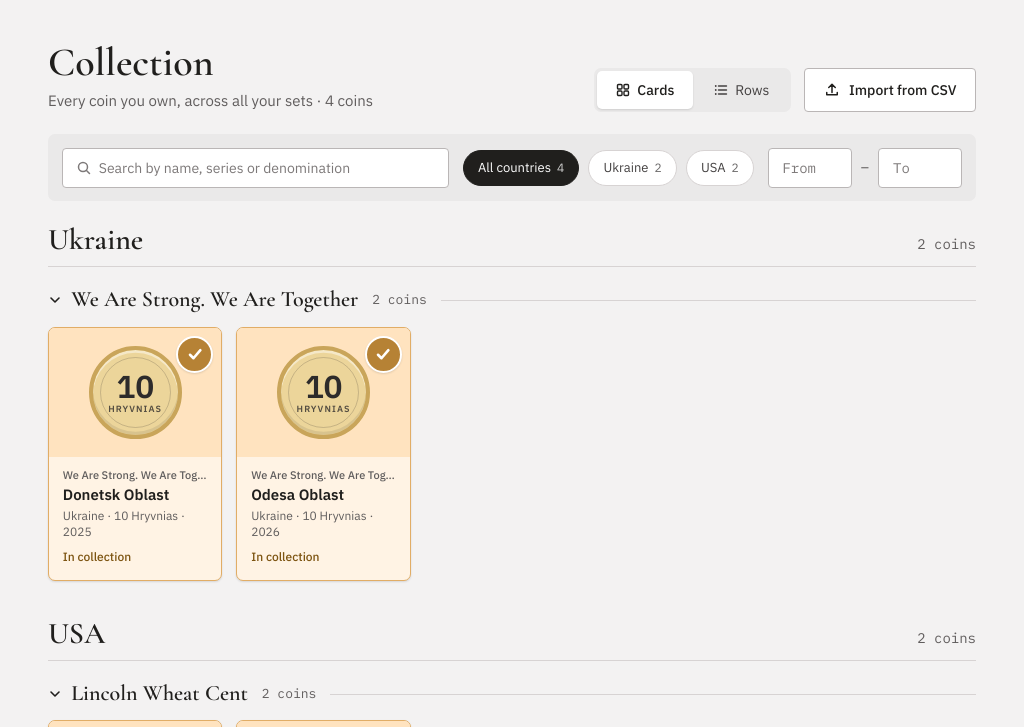
CollectionPage › criterion 4: year range › shows the no-results state when the range is empty
Type "2026" into the field with test id "collection-year-from" at point(810, 168), box [768,148,852,188]
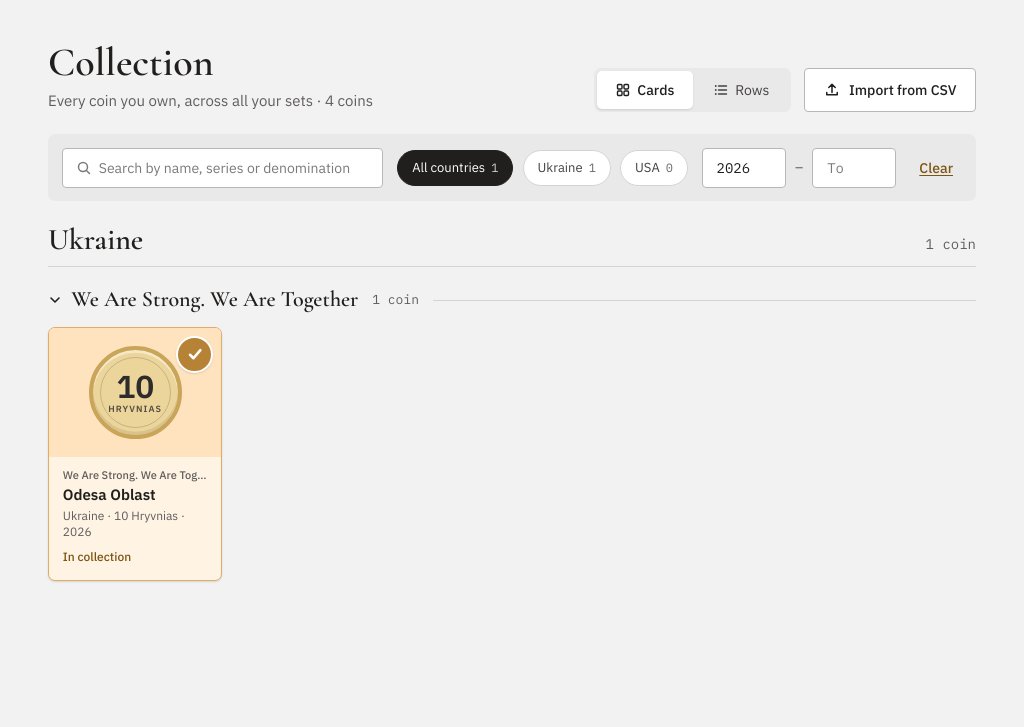
Type "2025" into the field with test id "collection-year-to" at point(854, 168), box [812,148,896,188]
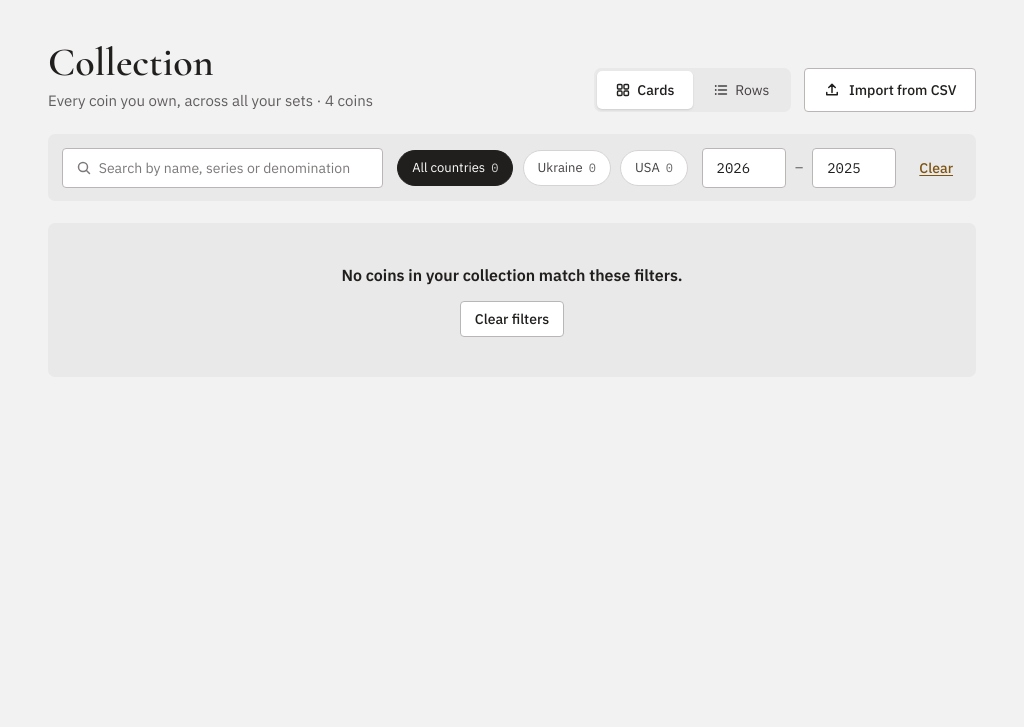
Expected: the element with test id "collection-no-results" is shown, [48,223,976,377]
